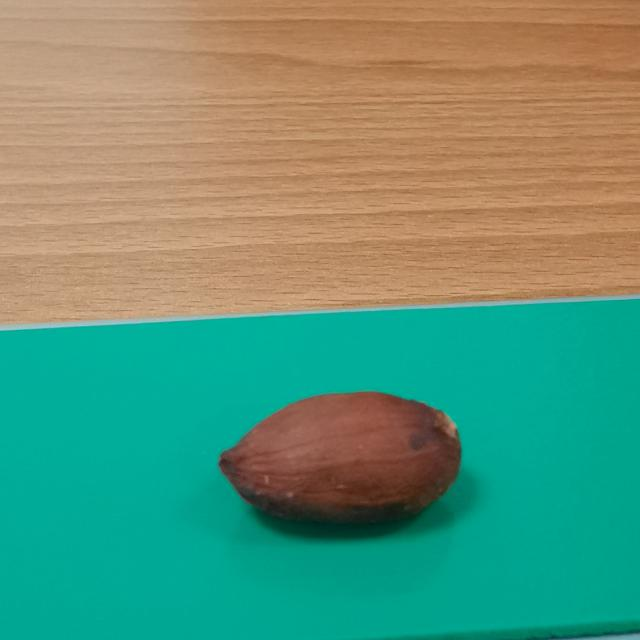Fine_cocoabeans: (151, 354, 519, 574)
